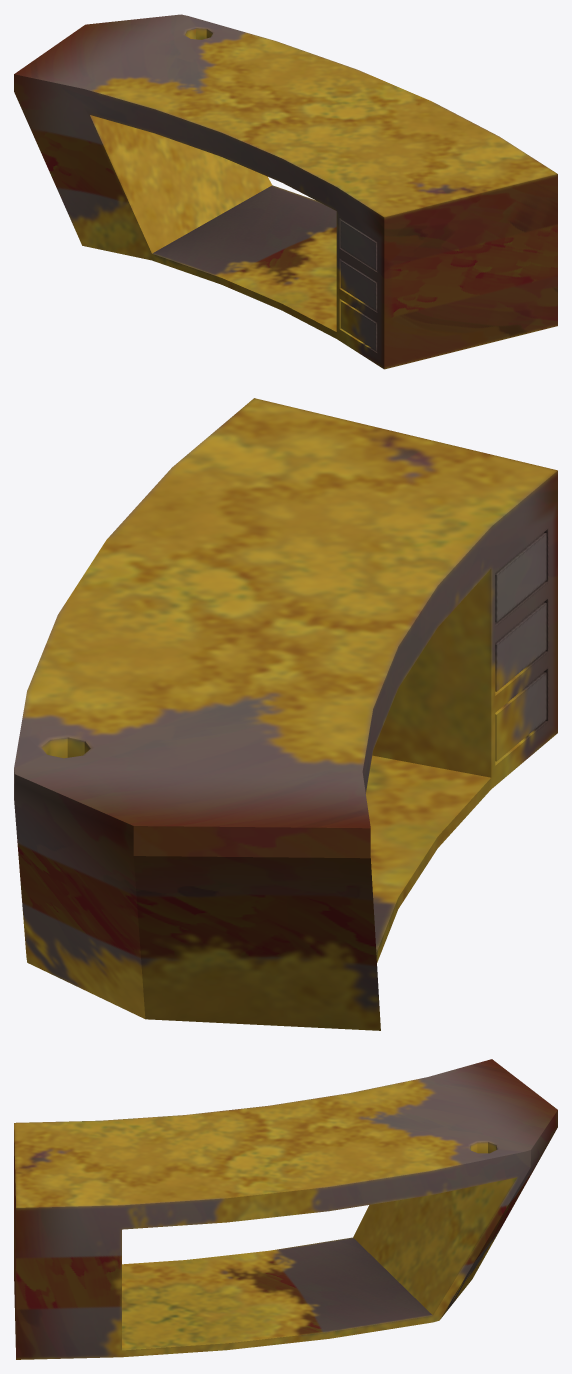
File: desk_short_curve.fbx
3 views of the same model, one above another, from view 1: azimuth 30°, elevation 25°; view 2: azimuth 150°, elevation 25°; view 3: azimuth 270°, elevation 25° (orthographic). The views are drawn at different scales.
Visible parts, largest first — view 1: Cylinder.004; view 2: Cylinder.004; view 3: Cylinder.004.
Boxes of the visible parts, x1,y1,x2,y2 form: Cylinder.004: (14,14,557,369); Cylinder.004: (14,398,557,1030); Cylinder.004: (14,1059,557,1359).
Bounding box in the file's own units: 1.79 × 0.8493 × 2.76.
